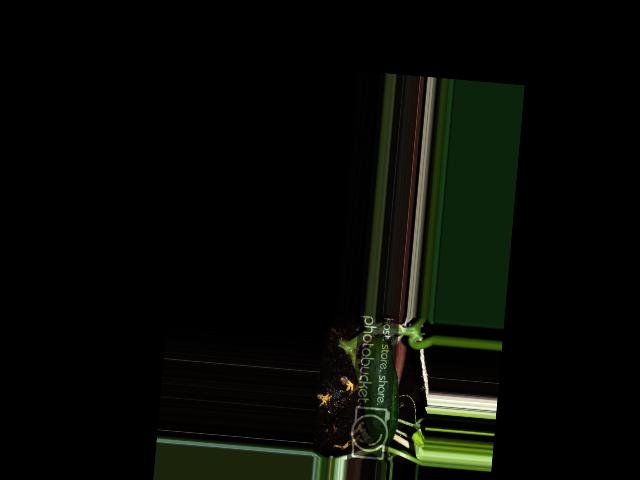cucumber: (356, 335, 404, 445)
